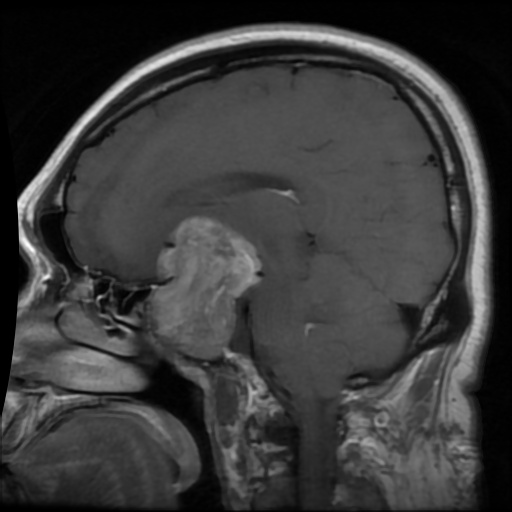pituitary: (151, 216, 259, 357)
